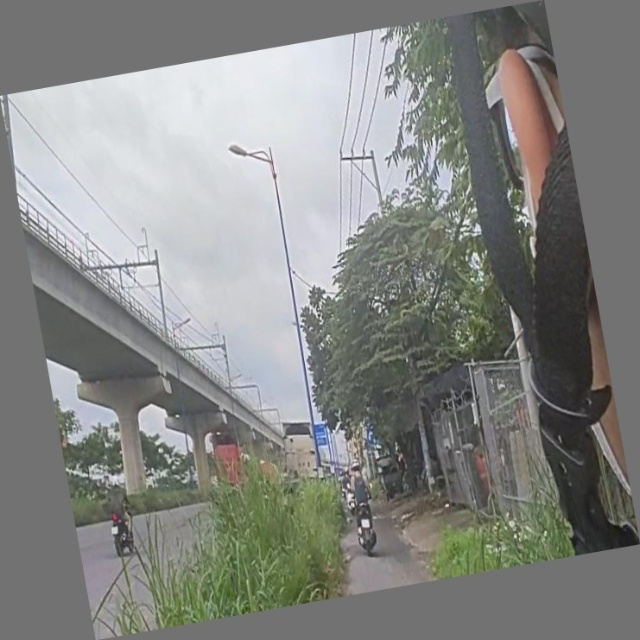I.409: (364, 424, 380, 446)
